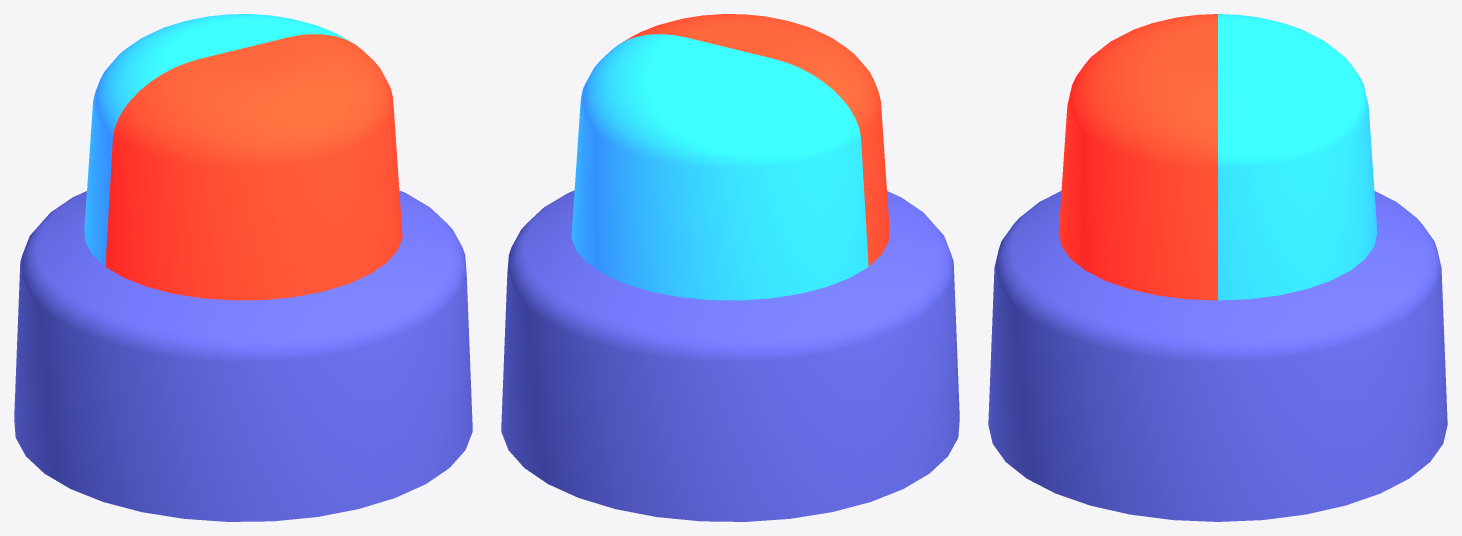
File: light.fbx
3 views of the same model, side by side, from view 1: azimuth 30°, elevation 25°; view 2: azimuth 150°, elevation 25°; view 3: azimuth 270°, elevation 25° (orthographic).
Visible parts, largest first — view 1: Cylinder.020; view 2: Cylinder.020; view 3: Cylinder.020.
Part boxes in pixels (x1,y1,x2,y2): Cylinder.020: [14, 14, 472, 521]; Cylinder.020: [501, 14, 959, 521]; Cylinder.020: [988, 14, 1447, 521].
Bounding box in the file's own units: 40.95 × 37.04 × 40.95.
